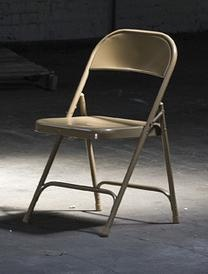obstacle: (24, 29, 177, 235)
